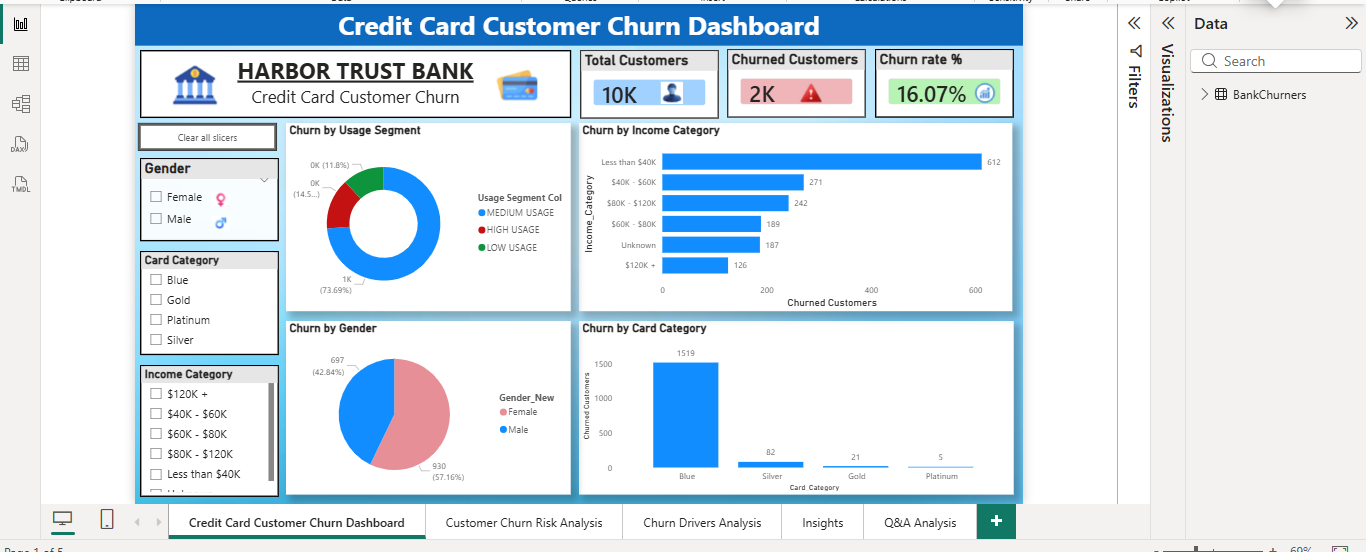

What the dashboard file says about the page in this screenshot:
{"tool":"powerbi","page":{"name":"Credit Card Customer Churn Dashboard","canvas":[1280,720],"ordinal":0},"visuals":[{"type":"cardVisual","title":"Total Customers","fields":{"Data":["BankChurners.Total Customers"]},"box":[640.8,66.2,200.2,99.4],"z":0},{"type":"cardVisual","title":"Churned Customers","fields":{"Data":["BankChurners.Churned Customers"]},"box":[852.5,64.8,200.2,99.4],"z":1000},{"type":"cardVisual","title":"Churn rate %","fields":{"Data":["BankChurners.Churn Rate %"]},"box":[1065.6,64.8,200.2,99.4],"z":2000},{"type":"columnChart","title":"Churn by Card Category","fields":{"Category":["BankChurners.Card_Category"],"Y":["BankChurners.Churned Customers"]},"box":[640,457.1,625.7,250],"z":3000},{"type":"barChart","title":"Churn by Income Category","fields":{"Category":["BankChurners.Income_Category"],"Y":["BankChurners.Churned Customers"]},"box":[640,171.4,624.3,271.4],"z":4000},{"type":"donutChart","title":"Churn by Usage Segment","fields":{"Category":["BankChurners.Usage Segment Col"],"Y":["BankChurners.Churned Customers"]},"box":[217.1,171.4,410,271.4],"z":5000},{"type":"shape","box":[0,0,1280.2,60.5],"z":6000},{"type":"textbox","box":[206.6,0,866.9,66.2],"z":7000},{"type":"slicer","title":"Gender","fields":{"Values":["BankChurners.Gender_New"]},"box":[7.1,221.4,200,120],"z":8000},{"type":"actionButton","box":[753.1,108,40.3,40.3],"z":9000},{"type":"actionButton","box":[953.3,108,40.3,40.3],"z":10000},{"type":"actionButton","box":[1203.8,108,40.3,40.3],"z":11000},{"type":"actionButton","box":[107.1,264.3,34.3,34.3],"z":12000},{"type":"actionButton","box":[107.1,298.6,48.6,34.3],"z":13000},{"type":"pieChart","title":"Churn by Gender","fields":{"Category":["BankChurners.Gender_New"],"Y":["BankChurners.Churned Customers"]},"box":[217.1,457.1,410,250],"z":14000},{"type":"slicer","title":"Card Category","fields":{"Values":["BankChurners.Card_Category"]},"box":[7.1,355.7,200,150],"z":15000},{"type":"slicer","title":"Income Category","fields":{"Values":["BankChurners.Income_Category"]},"box":[7.1,520,200,190],"z":16000},{"type":"actionButton","box":[4.3,171.4,200.2,40.3],"z":17000},{"type":"textbox","box":[7.2,66.2,620.6,97.9],"z":18000},{"type":"actionButton","box":[49,79.2,74.9,74.9],"z":19000},{"type":"actionButton","box":[512.6,79.2,75,75],"z":20000}]}

Visuals, with their boxes on the page's 1280x720 design canvas (x1, y1, x2, y2). These are canvas units, not pixel positions in the 1366x552 screenshot, which may show the page scaled, cropped or inside an application window:
"Total Customers" cardVisual: <bbox>641, 66, 841, 166</bbox>
"Churned Customers" cardVisual: <bbox>852, 65, 1053, 164</bbox>
"Churn rate %" cardVisual: <bbox>1066, 65, 1266, 164</bbox>
"Churn by Card Category" columnChart: <bbox>640, 457, 1266, 707</bbox>
"Churn by Income Category" barChart: <bbox>640, 171, 1264, 443</bbox>
"Churn by Usage Segment" donutChart: <bbox>217, 171, 627, 443</bbox>
shape: <bbox>0, 0, 1280, 60</bbox>
textbox: <bbox>207, 0, 1074, 66</bbox>
"Gender" slicer: <bbox>7, 221, 207, 341</bbox>
actionButton: <bbox>753, 108, 793, 148</bbox>
actionButton: <bbox>953, 108, 994, 148</bbox>
actionButton: <bbox>1204, 108, 1244, 148</bbox>
actionButton: <bbox>107, 264, 141, 299</bbox>
actionButton: <bbox>107, 299, 156, 333</bbox>
"Churn by Gender" pieChart: <bbox>217, 457, 627, 707</bbox>
"Card Category" slicer: <bbox>7, 356, 207, 506</bbox>
"Income Category" slicer: <bbox>7, 520, 207, 710</bbox>
actionButton: <bbox>4, 171, 204, 212</bbox>
textbox: <bbox>7, 66, 628, 164</bbox>
actionButton: <bbox>49, 79, 124, 154</bbox>
actionButton: <bbox>513, 79, 588, 154</bbox>
